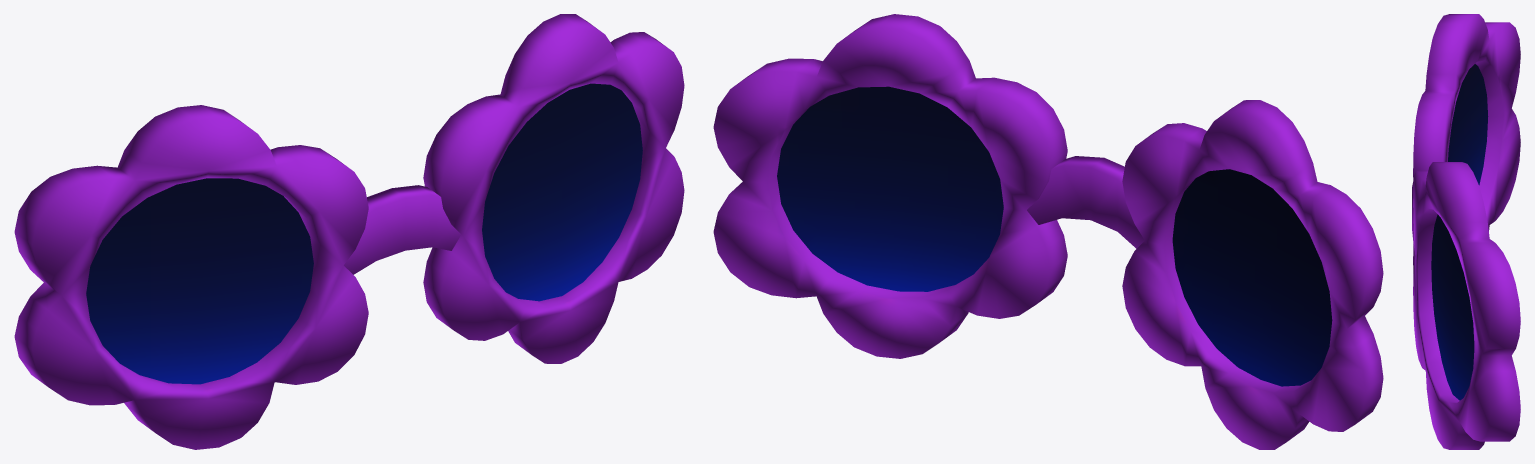
The model's file is AccessoryGlassFlower3.glb.
3 renders of one model, left to right at view 1: azimuth 30°, elevation 25°; view 2: azimuth 150°, elevation 25°; view 3: azimuth 270°, elevation 25°, orthographic. The views are drawn at different scales.
Parts seen in each view (by area): view 1: Accessory__mAccessory; view 2: Accessory__mAccessory; view 3: Accessory__mAccessory.
Boxes of the visible parts, left/top/right/bottom form: Accessory__mAccessory: left=14, top=14, right=684, bottom=449; Accessory__mAccessory: left=713, top=14, right=1383, bottom=449; Accessory__mAccessory: left=1412, top=14, right=1520, bottom=449.
Size of the model in its own units: 5.9 by 2.85 by 1.02.
1 material, 1 textured.
